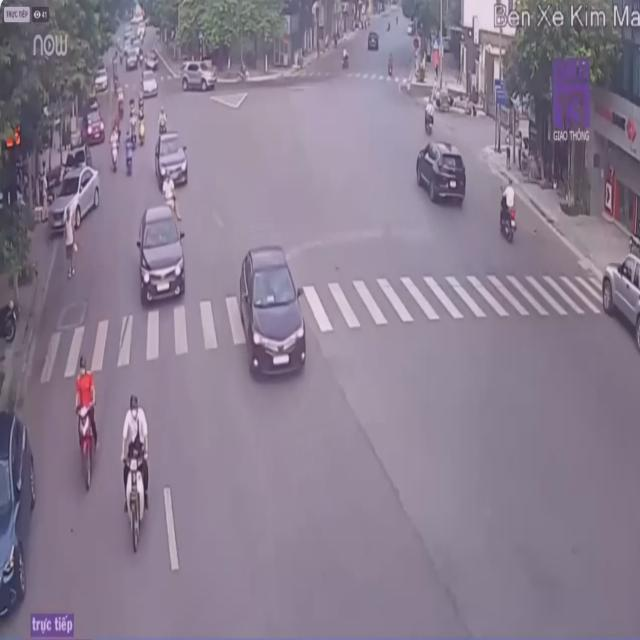car: (240, 244, 304, 381), (1, 410, 34, 622), (139, 206, 182, 307), (601, 250, 640, 346), (418, 142, 469, 209), (50, 158, 100, 226), (157, 134, 186, 187)
motorbike: (118, 393, 157, 551), (76, 355, 99, 489), (498, 180, 519, 245), (163, 171, 177, 216)
